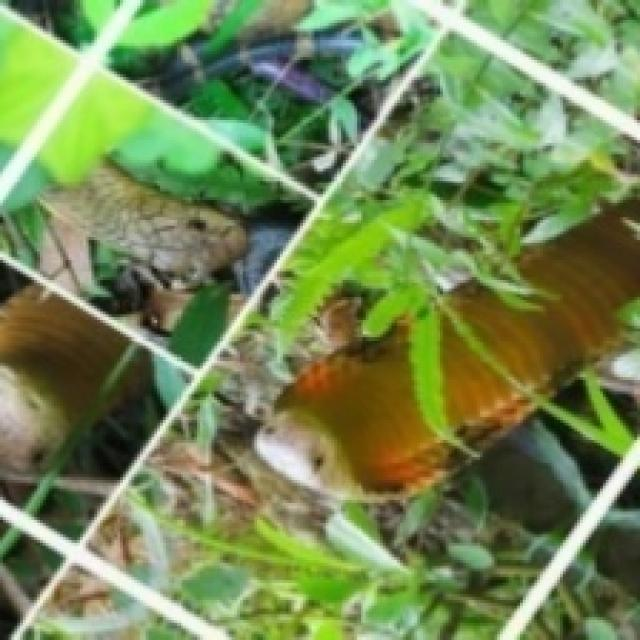king cobra: (440, 214, 637, 446), (254, 320, 460, 497), (40, 163, 246, 286)
